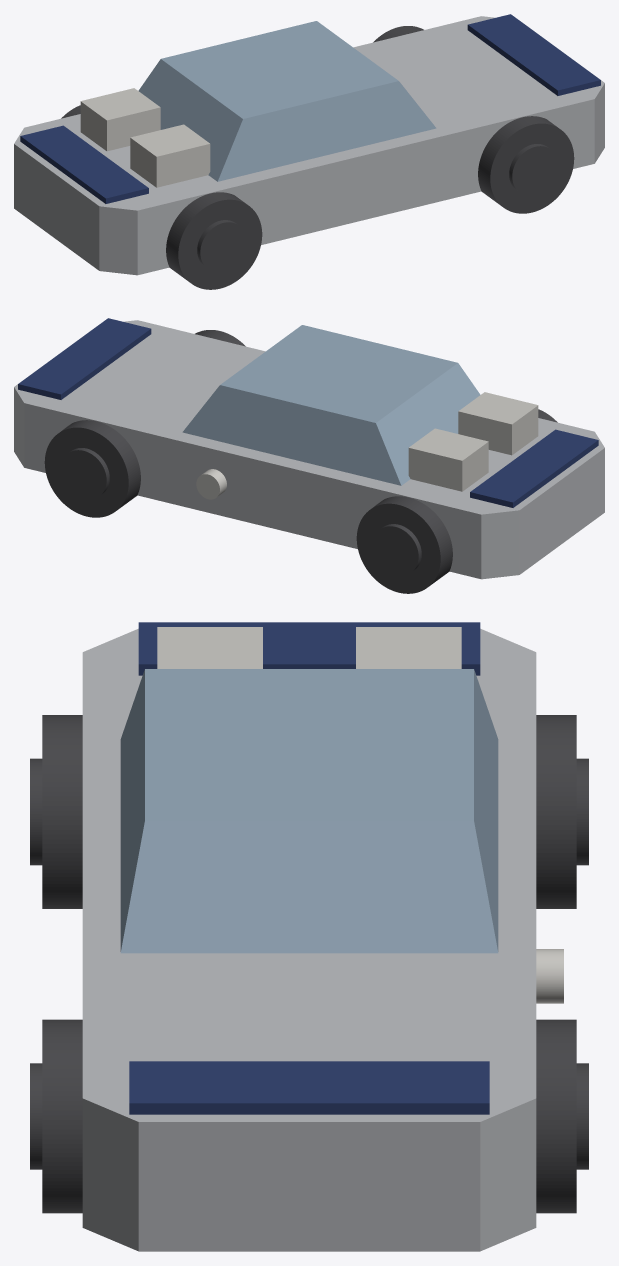
The picture shows the model from 3 angles, top to bottom: view 1: azimuth 30°, elevation 25°; view 2: azimuth 150°, elevation 25°; view 3: azimuth 270°, elevation 25°; orthographic projection. The views are drawn at different scales.
Visible parts, largest first — view 1: chassis, cabin, wheel_rr, wheel_fr, solar_hood, solar_deck, module_02, module_01; view 2: chassis, cabin, wheel_rl, wheel_fl, solar_hood, solar_deck, module_01, module_02, charging_port; view 3: chassis, cabin, solar_hood, wheel_fl, wheel_fr, wheel_rl, wheel_rr, solar_deck, module_01, module_02, charging_port.
Boxes of the visible parts, box(x1,y1,x2,y2) form: chassis: box(14, 16, 604, 275); cabin: box(138, 21, 436, 181); wheel_rr: box(166, 192, 262, 289); wheel_fr: box(478, 116, 574, 213); solar_hood: box(467, 14, 600, 95); solar_deck: box(20, 125, 148, 203); module_02: box(130, 124, 210, 187); module_01: box(80, 88, 160, 151); chassis: box(14, 320, 604, 579); cabin: box(182, 325, 480, 485); wheel_rl: box(356, 496, 452, 593); wheel_fl: box(44, 420, 140, 517); solar_hood: box(18, 318, 151, 399); solar_deck: box(470, 429, 598, 507); module_01: box(408, 428, 488, 491); module_02: box(458, 392, 538, 455); charging_port: box(196, 469, 226, 499); chassis: box(82, 628, 536, 1251); cabin: box(120, 669, 498, 953); solar_hood: box(129, 1061, 489, 1114); wheel_fl: box(536, 1019, 588, 1213); wheel_fr: box(30, 1019, 82, 1213); wheel_rl: box(536, 715, 588, 908); wheel_rr: box(30, 715, 82, 908); solar_deck: box(138, 622, 480, 675); module_01: box(356, 627, 461, 668); module_02: box(157, 627, 262, 668); charging_port: box(536, 949, 563, 1003).
Size of the model in its own units: 9.4 by 2.47 by 4.5.
